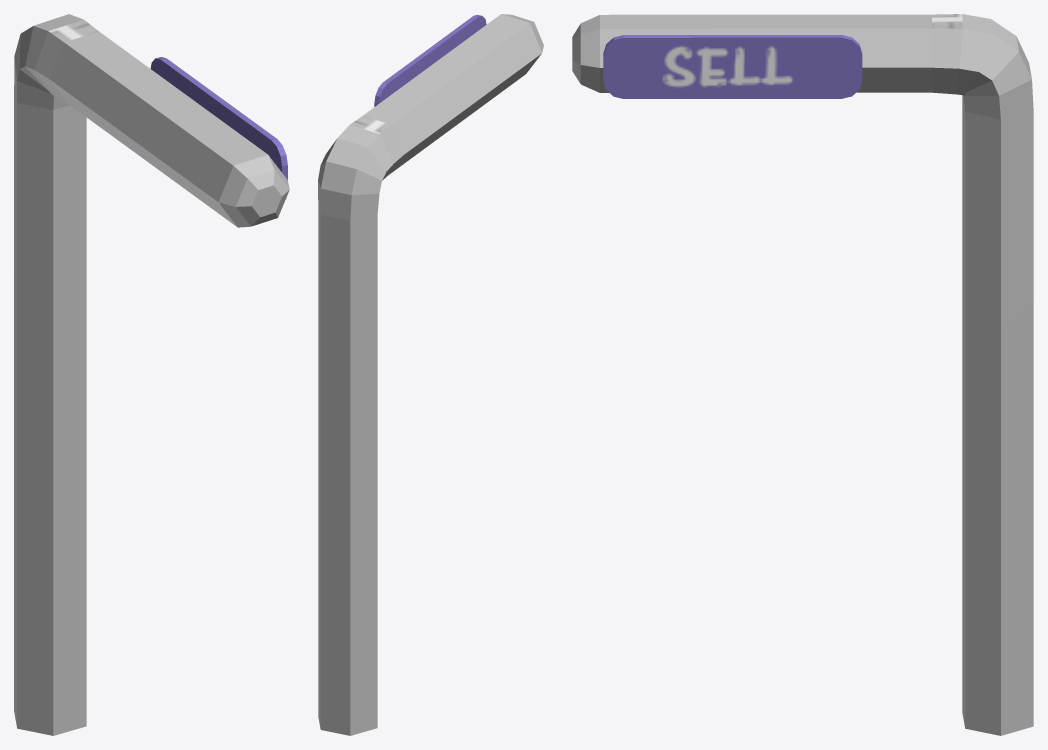
Rendered from cake_sell_ust.fbx.
The picture shows the model from 3 angles, left to right: view 1: azimuth 30°, elevation 25°; view 2: azimuth 150°, elevation 25°; view 3: azimuth 270°, elevation 25°; orthographic projection. The views are drawn at different scales.
Visible parts, largest first — view 1: Cube.004, Cube.005; view 2: Cube.004, Cube.005; view 3: Cube.004, Cube.005.
Part boxes in pixels (x1,y1,x2,y2): Cube.004: [14, 14, 289, 735]; Cube.005: [150, 57, 287, 198]; Cube.004: [318, 14, 543, 735]; Cube.005: [374, 14, 486, 106]; Cube.004: [572, 14, 1033, 735]; Cube.005: [603, 35, 862, 98].
Bounding box in the file's own units: 0.7181 × 6.63 × 3.96.
